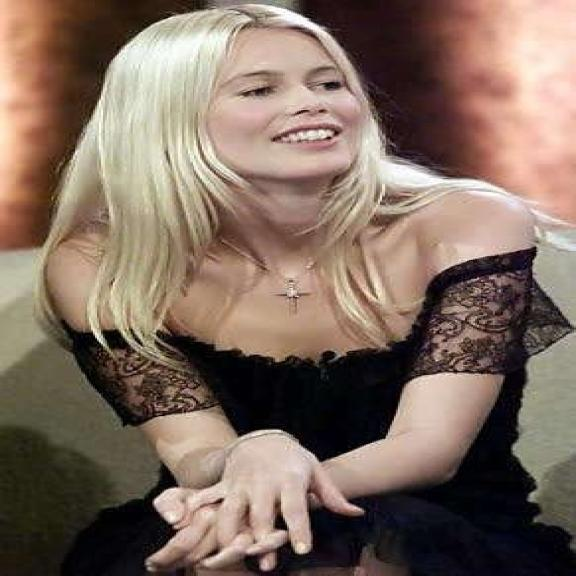face: (143, 7, 375, 190)
